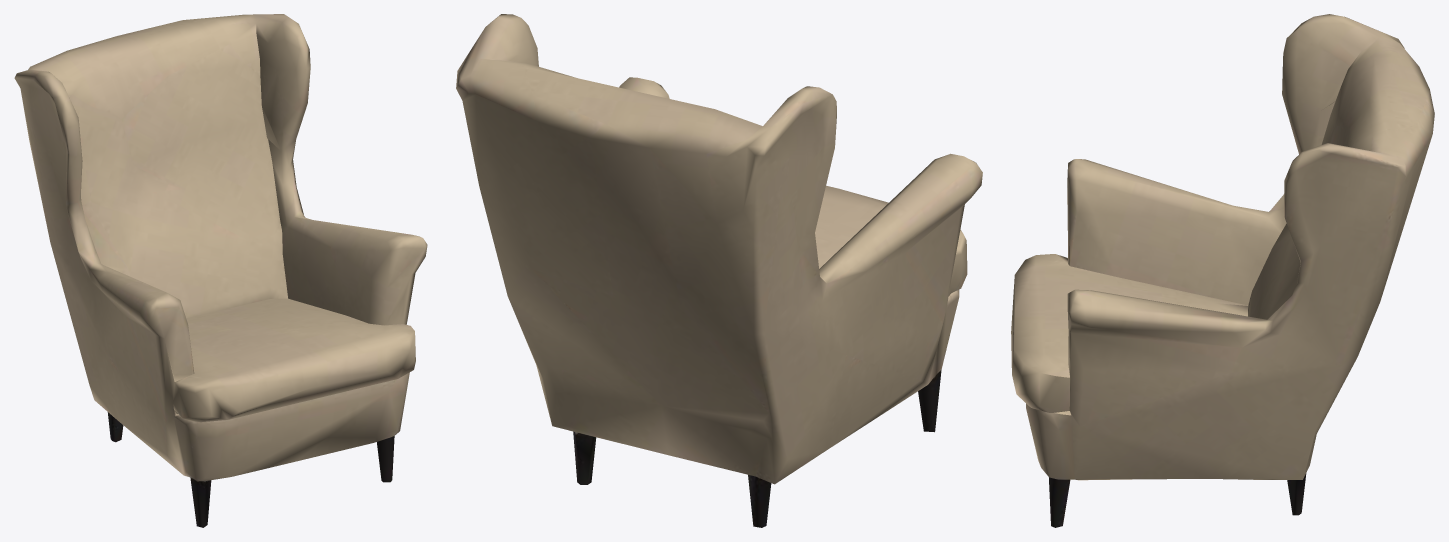
File: 11 - STRANDMON Wing chair - Tommaboda deep beige.glb
3 views of the same model, side by side, from view 1: azimuth 30°, elevation 25°; view 2: azimuth 150°, elevation 25°; view 3: azimuth 270°, elevation 25° (orthographic). The views are drawn at different scales.
Visible parts, largest first — view 1: ASY_ART_50613163_S01_NV01; view 2: ASY_ART_50613163_S01_NV01; view 3: ASY_ART_50613163_S01_NV01.
Boxes of the visible parts, x1,y1,x2,y2 form: ASY_ART_50613163_S01_NV01: [14, 14, 427, 527]; ASY_ART_50613163_S01_NV01: [456, 14, 982, 527]; ASY_ART_50613163_S01_NV01: [1011, 14, 1434, 527].
Bounding box in the file's own units: 0.8127 × 1.01 × 0.9788.
1 material, 1 textured.
